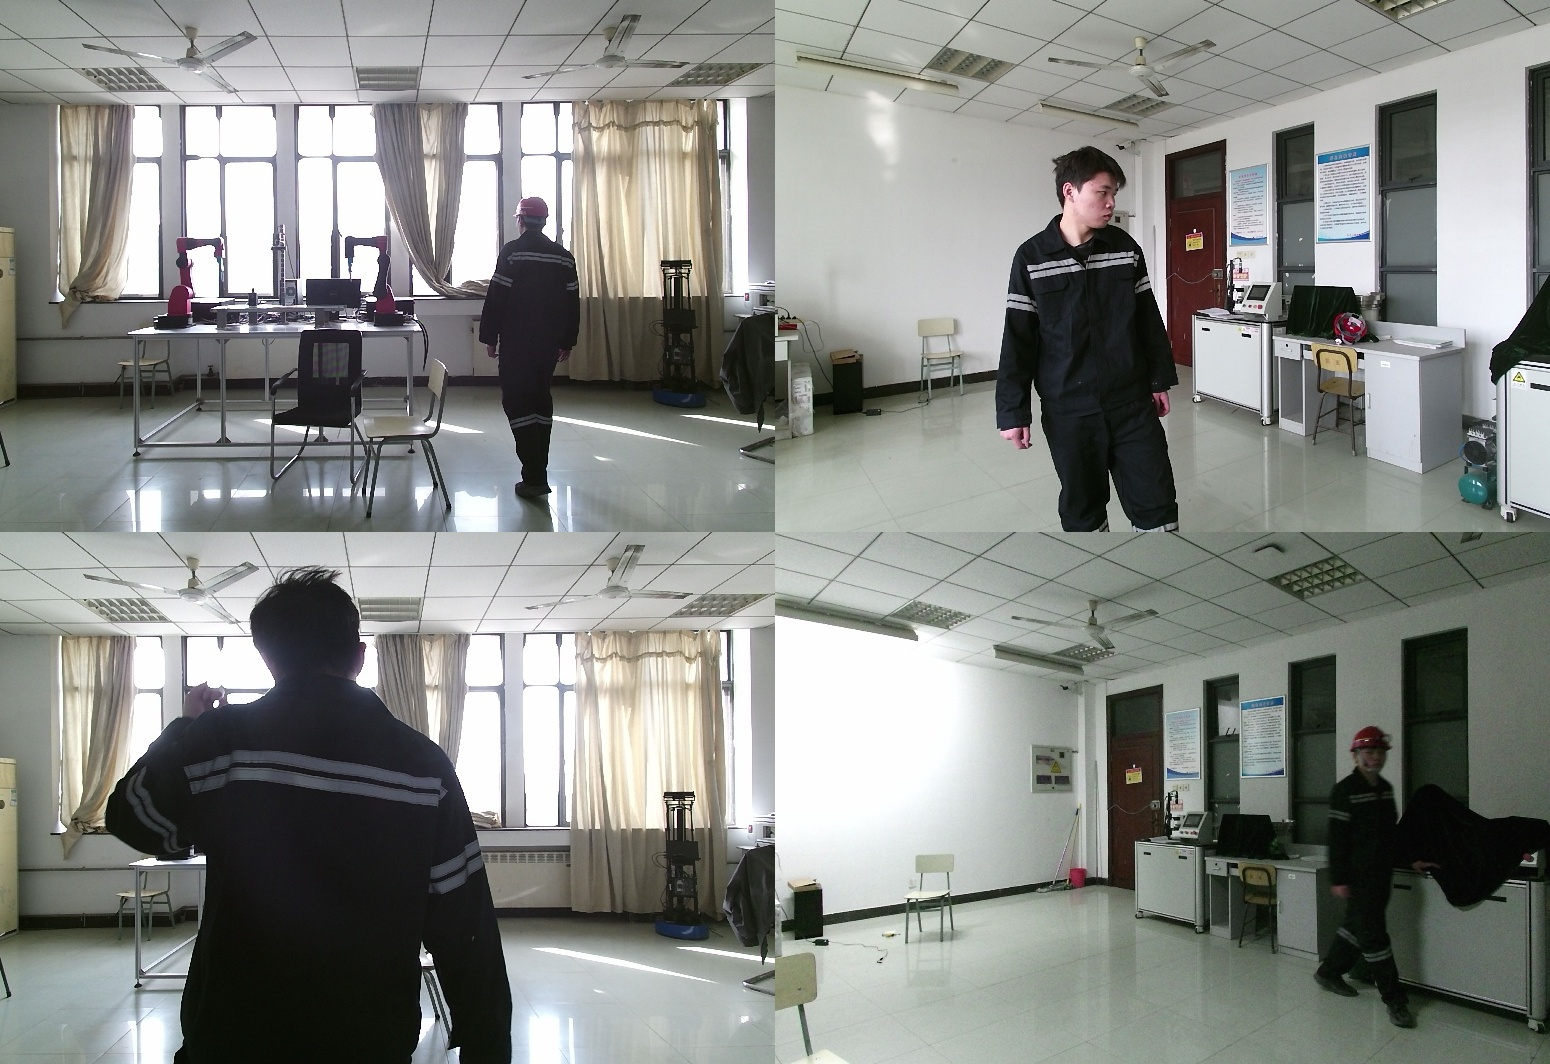person: (112, 573, 511, 1064), (999, 146, 1205, 532), (1308, 728, 1432, 1026), (483, 195, 598, 500)
